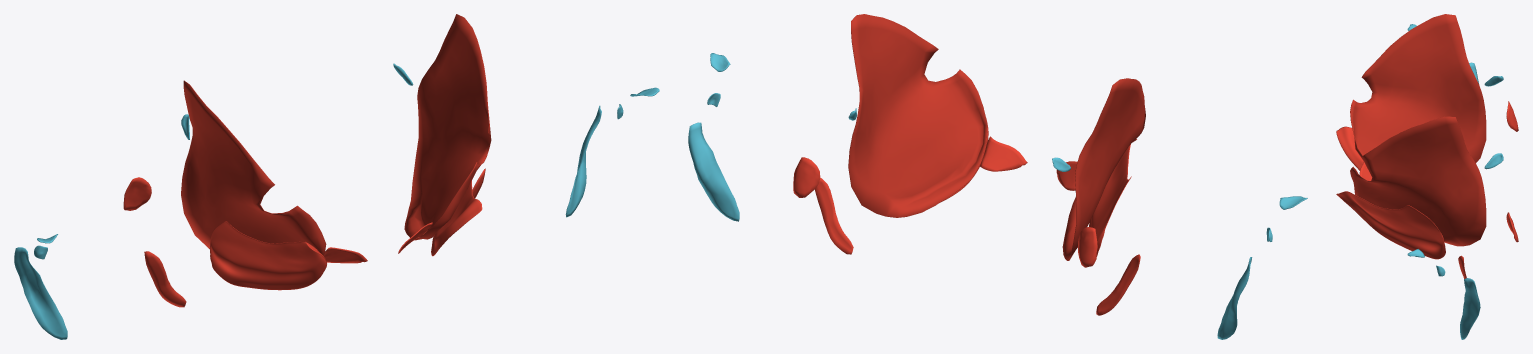
File: hip_attach_s124_male_insertions.glb
3 renders of one model, left to right at view 1: azimuth 30°, elevation 25°; view 2: azimuth 150°, elevation 25°; view 3: azimuth 270°, elevation 25°, orthographic. The views are drawn at different scales.
Parts seen in each view (by area): view 1: Obturator internus origin and insertion.l, Obturator internus origin and insertion.r, Obturator externus origin and insertion.r, Quadratus femoris origin and insertion.r, Obturator externus origin and insertion.l, Quadratus femoris origin and insertion.l, Inferior gemellus origin and insertion.r, Levator ani origin and insertion.r; view 2: Obturator internus origin and insertion.l, Obturator internus origin and insertion.r, Quadratus femoris origin and insertion.l, Quadratus femoris origin and insertion.r, Obturator externus origin and insertion.r, Levator ani origin and insertion.l, Inferior gemellus origin and insertion.l, Inferior gemellus origin and insertion.r, Levator ani origin and insertion.r; view 3: Obturator internus origin and insertion.r, Obturator internus origin and insertion.l, Obturator externus origin and insertion.l, Quadratus femoris origin and insertion.l, Obturator externus origin and insertion.r, Levator ani origin and insertion.r, Inferior gemellus origin and insertion.r, Inferior gemellus origin and insertion.l, Levator ani origin and insertion.l.
Boxes of the visible parts, <box> form: Obturator internus origin and insertion.l: <box>404,14,659,240</box>; Obturator internus origin and insertion.r: <box>40,80,326,255</box>; Obturator externus origin and insertion.r: <box>34,221,326,290</box>; Quadratus femoris origin and insertion.r: <box>14,247,186,339</box>; Obturator externus origin and insertion.l: <box>431,104,623,256</box>; Quadratus femoris origin and insertion.l: <box>472,105,601,217</box>; Inferior gemellus origin and insertion.r: <box>37,177,151,242</box>; Levator ani origin and insertion.r: <box>181,114,367,263</box>; Obturator internus origin and insertion.l: <box>710,14,987,217</box>; Obturator internus origin and insertion.r: <box>1062,78,1304,260</box>; Quadratus femoris origin and insertion.l: <box>688,122,853,254</box>; Quadratus femoris origin and insertion.r: <box>1096,254,1252,339</box>; Obturator externus origin and insertion.r: <box>1089,139,1272,256</box>; Levator ani origin and insertion.l: <box>848,108,1027,171</box>; Inferior gemellus origin and insertion.l: <box>710,53,820,197</box>; Inferior gemellus origin and insertion.r: <box>1078,196,1307,267</box>; Levator ani origin and insertion.r: <box>1052,157,1077,190</box>; Obturator internus origin and insertion.r: <box>1350,14,1486,162</box>; Obturator internus origin and insertion.l: <box>1350,116,1486,257</box>; Obturator externus origin and insertion.l: <box>1336,191,1445,276</box>; Quadratus femoris origin and insertion.l: <box>1458,255,1480,339</box>; Obturator externus origin and insertion.r: <box>1336,126,1363,170</box>; Levator ani origin and insertion.r: <box>1359,76,1503,180</box>; Inferior gemellus origin and insertion.r: <box>1407,24,1518,131</box>; Inferior gemellus origin and insertion.l: <box>1407,212,1518,257</box>; Levator ani origin and insertion.l: <box>1484,153,1503,169</box>.
Bounding box in the file's own units: 0.2573 × 0.0935 × 0.0855.
